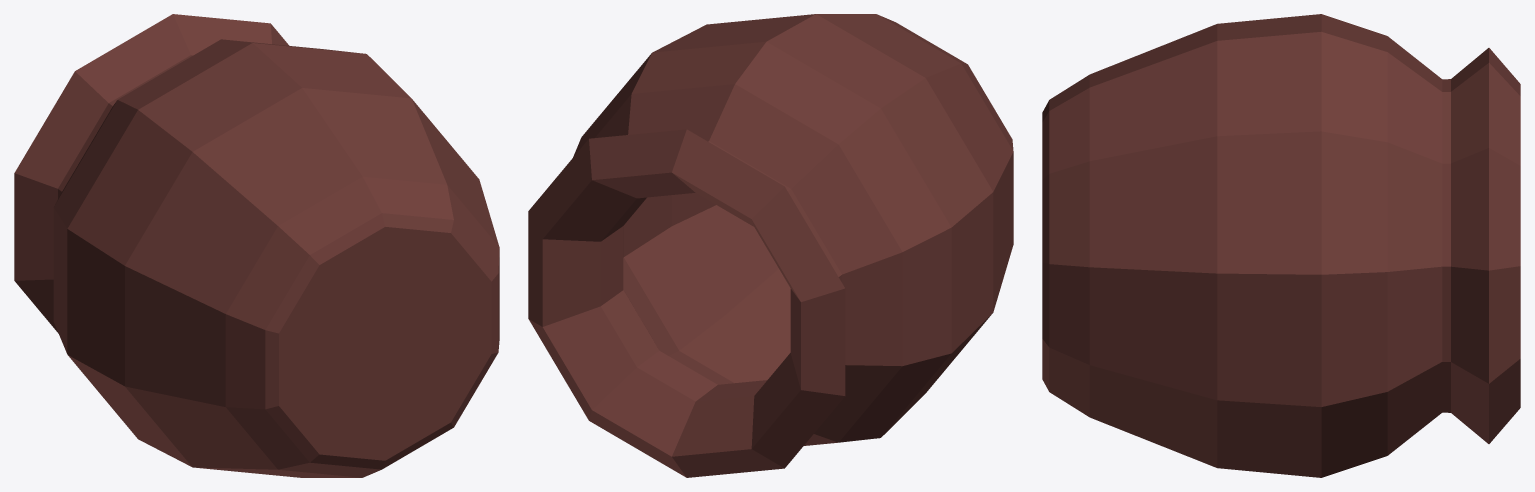
Rendered from Small_Pot_v007(UV_Unwrapped).fbx.
3 views of the same model, side by side, from view 1: azimuth 30°, elevation 25°; view 2: azimuth 150°, elevation 25°; view 3: azimuth 270°, elevation 25° (orthographic). The views are drawn at different scales.
Visible parts, largest first — view 1: Pot; view 2: Pot; view 3: Pot.
Boxes of the visible parts, <box> form: Pot: <box>14,14,499,477</box>; Pot: <box>528,14,1013,477</box>; Pot: <box>1042,14,1520,477</box>.
Bounding box in the file's own units: 189 × 199 × 201.
